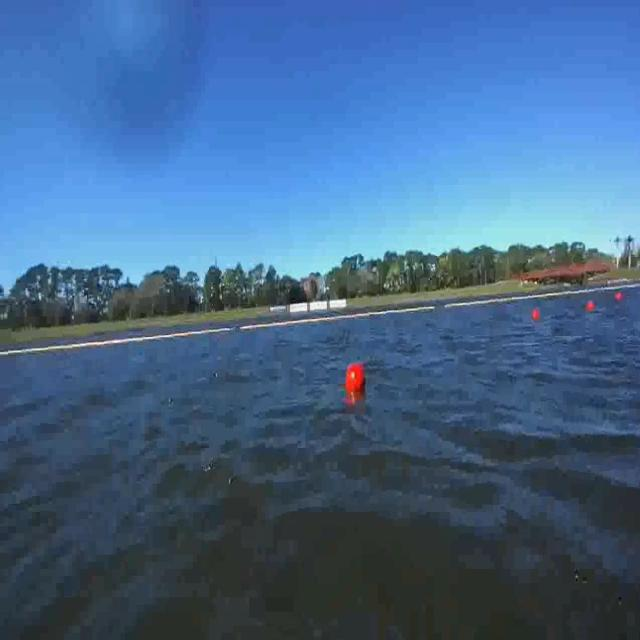red-buoy: (346, 362, 365, 392), (534, 307, 543, 320), (587, 302, 596, 313), (616, 292, 624, 301)
